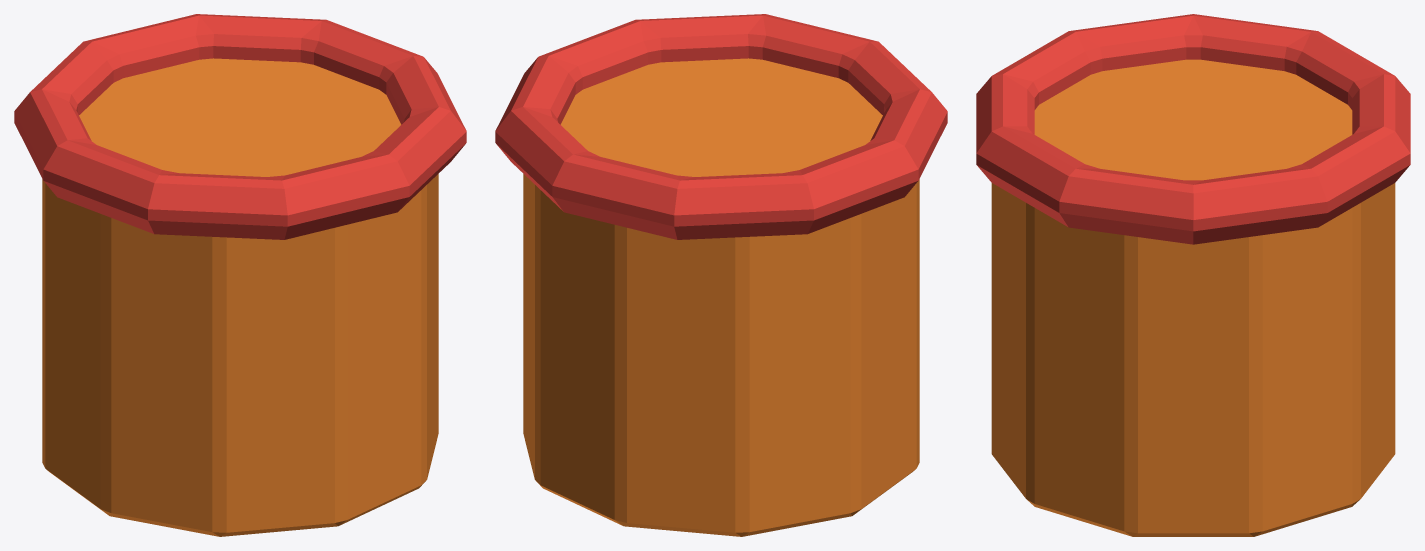
File: ceramic_pot.glb
The picture shows the model from 3 angles, left to right: view 1: azimuth 30°, elevation 25°; view 2: azimuth 150°, elevation 25°; view 3: azimuth 270°, elevation 25°; orthographic projection.
Visible parts, largest first — view 1: ceramic_pot; view 2: ceramic_pot; view 3: ceramic_pot.
Part boxes in pixels (box(x1,y1,x2,y2)): ceramic_pot: box(14, 14, 466, 536); ceramic_pot: box(495, 14, 947, 536); ceramic_pot: box(976, 14, 1410, 536).
Bounding box in the file's own units: 0.302 × 0.2612 × 0.2872.
